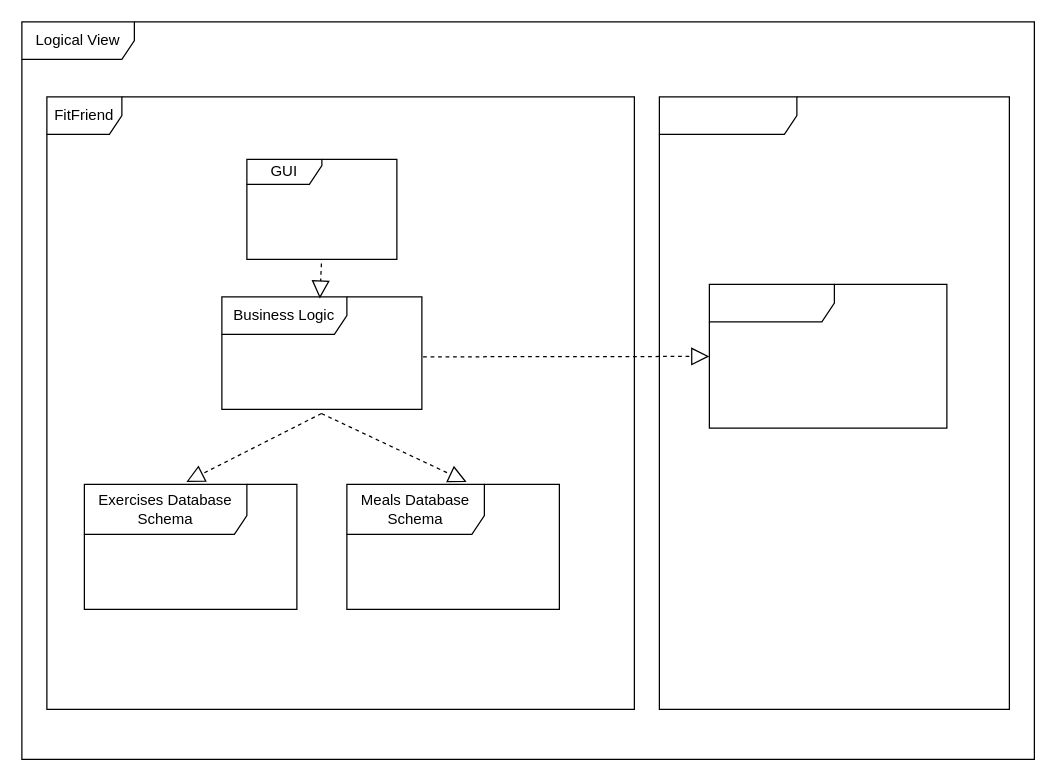
This 1056x781 diagram has some shape labels left out. Each missing label, with the box of its shape:
External Services: (658, 96, 1009, 709)
Firebase Server: (708, 283, 947, 428)
